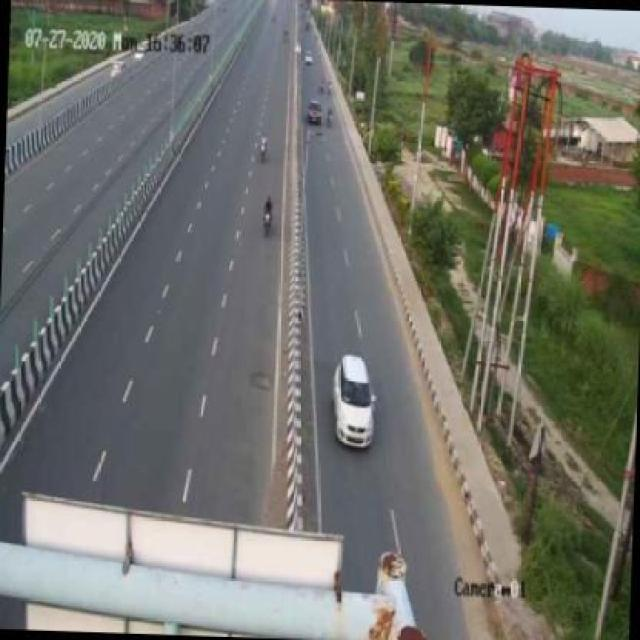car: (331, 354, 378, 451), (303, 98, 325, 131)
